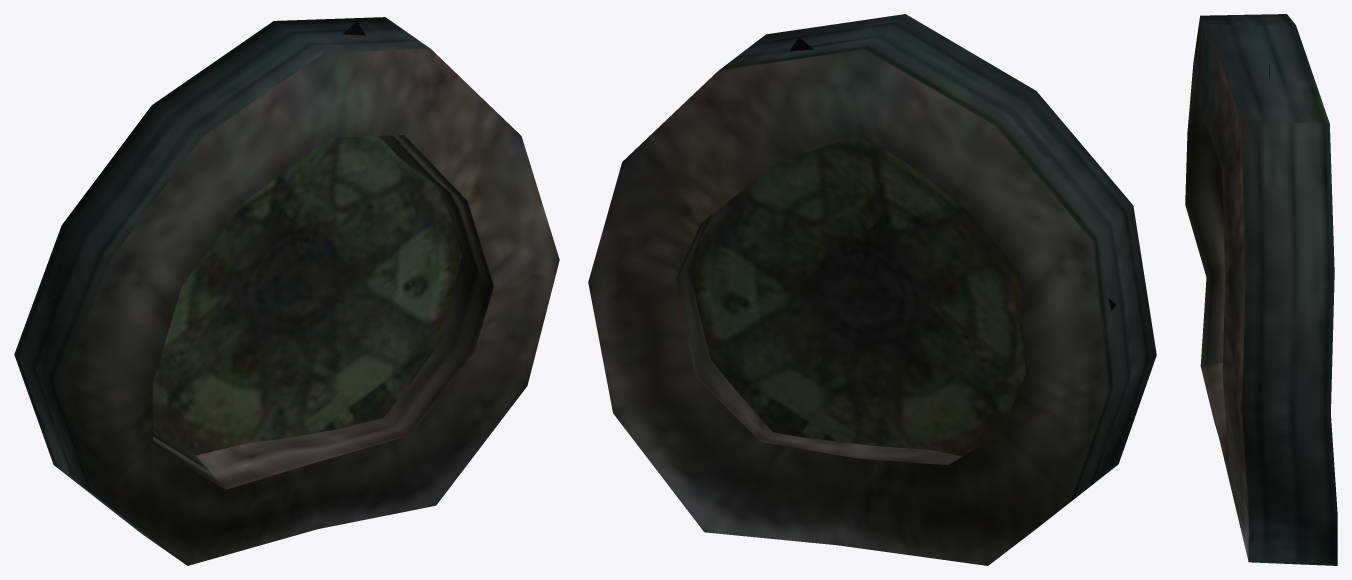
File: vehicle_uni_carrier_blow_piece01.glb
3 views of the same model, side by side, from view 1: azimuth 30°, elevation 25°; view 2: azimuth 150°, elevation 25°; view 3: azimuth 270°, elevation 25° (orthographic). The views are drawn at different scales.
Bounding box in the file's own units: 21.39 × 20.07 × 5.82.
Materials: 2 (2 with a texture image).
